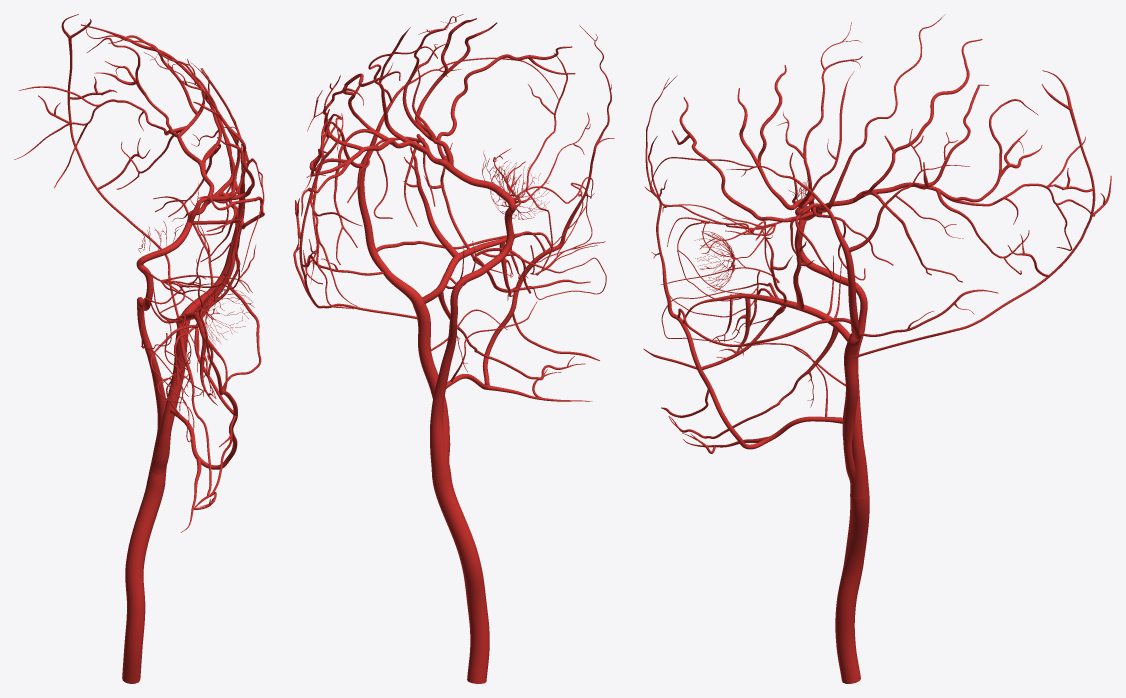
File: circulatorio-left-common-carotid-artery.glb
3 renders of one model, left to right at view 1: azimuth 30°, elevation 25°; view 2: azimuth 150°, elevation 25°; view 3: azimuth 270°, elevation 25°, orthographic. The views are drawn at different scales.
Visible parts, largest first — view 1: Left common carotid artery, Superficial temporal artery.l, Internal carotid artery.l, External carotid artery.l, Occipital artery.l, Central retinal artery.l, Prefrontal artery.l, Temporo-occipital branch.l, Artery of central sulcus.l, Artery of precentral sulcus.l, Lateral frontobasal artery.l, Facial artery.l (+11 smaller); view 2: Left common carotid artery, Internal carotid artery.l, Superficial temporal artery.l, External carotid artery.l, Occipital artery.l, Maxillary artery.l, Lateral frontobasal artery.l, Artery of precentral sulcus.l, Prefrontal artery.l, Facial artery.l, Anterior temporal branch.l, Angular artery.l (+12 smaller); view 3: Left common carotid artery, Superficial temporal artery.l, Internal carotid artery.l, Occipital artery.l, External carotid artery.l, Maxillary artery.l, Facial artery.l, Artery of precentral sulcus.l, Prefrontal artery.l, Angular artery.l, Posterior parietal artery.l, Lateral frontobasal artery.l (+5 smaller).
Part boxes in pixels (left/top/right/bottom): Left common carotid artery: left=122, top=481, right=165, bottom=683; Superficial temporal artery.l: left=153, top=59, right=261, bottom=324; Internal carotid artery.l: left=137, top=265, right=166, bottom=484; External carotid artery.l: left=150, top=324, right=189, bottom=474; Occipital artery.l: left=38, top=14, right=178, bottom=317; Central retinal artery.l: left=164, top=282, right=254, bottom=344; Prefrontal artery.l: left=193, top=101, right=254, bottom=201; Temporo-occipital branch.l: left=14, top=86, right=148, bottom=188; Artery of central sulcus.l: left=85, top=23, right=235, bottom=205; Artery of precentral sulcus.l: left=144, top=52, right=243, bottom=203; Lateral frontobasal artery.l: left=192, top=196, right=264, bottom=231; Facial artery.l: left=170, top=400, right=237, bottom=469; Left common carotid artery: left=432, top=476, right=489, bottom=683; Internal carotid artery.l: left=430, top=208, right=515, bottom=479; Superficial temporal artery.l: left=301, top=27, right=461, bottom=306; External carotid artery.l: left=413, top=303, right=450, bottom=464; Occipital artery.l: left=293, top=113, right=417, bottom=319; Maxillary artery.l: left=422, top=235, right=528, bottom=303; Lateral frontobasal artery.l: left=437, top=46, right=575, bottom=160; Artery of precentral sulcus.l: left=402, top=14, right=463, bottom=141; Prefrontal artery.l: left=415, top=18, right=497, bottom=142; Facial artery.l: left=446, top=267, right=529, bottom=389; Anterior temporal branch.l: left=347, top=134, right=435, bottom=226; Angular artery.l: left=527, top=25, right=614, bottom=269; Left common carotid artery: left=835, top=495, right=869, bottom=683; Superficial temporal artery.l: left=726, top=71, right=998, bottom=347; Internal carotid artery.l: left=794, top=219, right=869, bottom=499; Occipital artery.l: left=855, top=70, right=1111, bottom=357; External carotid artery.l: left=842, top=343, right=858, bottom=485; Maxillary artery.l: left=709, top=293, right=850, bottom=358; Facial artery.l: left=689, top=344, right=843, bottom=449; Artery of precentral sulcus.l: left=777, top=22, right=862, bottom=208; Prefrontal artery.l: left=737, top=65, right=813, bottom=210; Angular artery.l: left=644, top=75, right=693, bottom=345; Posterior parietal artery.l: left=937, top=99, right=1042, bottom=202; Lateral frontobasal artery.l: left=672, top=97, right=813, bottom=222.
Size of the model in its own units: 0.0746 by 0.3005 by 0.1916.
